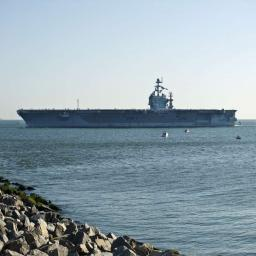Portanaves: (17, 75, 240, 130)
